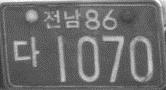0: (129, 35, 153, 83), (76, 35, 100, 82)
1: (55, 33, 69, 85)
6: (102, 7, 117, 31)
7: (100, 34, 126, 84)
8: (85, 8, 100, 31)
다: (13, 35, 40, 69)
전남_O: (43, 8, 82, 30)
